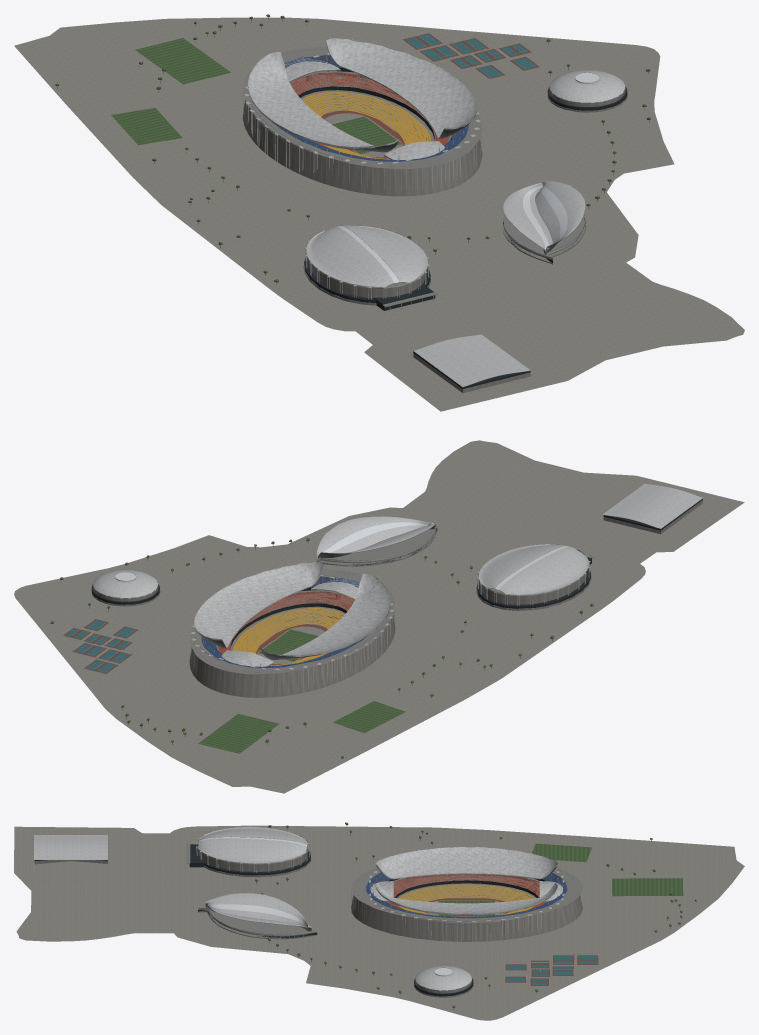
3 renders of one model, top to bottom at view 1: azimuth 30°, elevation 25°; view 2: azimuth 150°, elevation 25°; view 3: azimuth 270°, elevation 25°, orthographic. The views are drawn at different scales.
Visible parts, largest first — view 1: GX_Plaza_0, GEO-GX-Bowl, GEO-GX-Roof, GEO-GX-Gym-Roof, GEO-GX-Pool-Roof, GEO-GX-Train-Roof, GEO-GX-Gym-Body, GEO-GX-Courts, GEO-GX-Frame, GX_Lawn_0, GEO-GX-Tennis-Roof, GX_Lawn_1 (+4 smaller); view 2: GX_Plaza_0, GEO-GX-Bowl, GEO-GX-Roof, GEO-GX-Gym-Roof, GEO-GX-Pool-Roof, GEO-GX-Train-Roof, GEO-GX-Courts, GEO-GX-Gym-Body, GEO-GX-Frame, GEO-GX-Pool-Body, GX_Lawn_0, GEO-GX-Tennis-Roof (+4 smaller); view 3: GX_Plaza_0, GEO-GX-Bowl, GEO-GX-Roof, GEO-GX-Gym-Roof, GEO-GX-Pool-Roof, GEO-GX-Train-Roof, GEO-GX-Gym-Body, GEO-GX-Frame, GEO-GX-Pool-Body, GEO-GX-Courts, GX_Lawn_0, GEO-GX-Tennis-Roof (+3 smaller).
Boxes of the visible parts, x1,y1,x2,y2 form: GX_Plaza_0: [14, 17, 744, 411]; GEO-GX-Bowl: [242, 47, 482, 196]; GEO-GX-Roof: [248, 38, 476, 160]; GEO-GX-Gym-Roof: [306, 225, 428, 288]; GEO-GX-Pool-Roof: [503, 181, 585, 259]; GEO-GX-Train-Roof: [414, 334, 530, 387]; GEO-GX-Gym-Body: [303, 258, 438, 310]; GEO-GX-Courts: [402, 32, 539, 78]; GEO-GX-Frame: [243, 53, 481, 190]; GX_Lawn_0: [135, 38, 230, 84]; GEO-GX-Tennis-Roof: [549, 70, 625, 103]; GX_Lawn_1: [111, 108, 182, 145]; GX_Plaza_0: [14, 440, 744, 793]; GEO-GX-Bowl: [189, 569, 395, 697]; GEO-GX-Roof: [194, 562, 390, 666]; GEO-GX-Gym-Roof: [478, 544, 589, 596]; GEO-GX-Pool-Roof: [315, 516, 437, 562]; GEO-GX-Train-Roof: [602, 483, 702, 528]; GEO-GX-Courts: [63, 617, 138, 673]; GEO-GX-Gym-Body: [476, 554, 594, 610]; GEO-GX-Frame: [191, 574, 394, 693]; GEO-GX-Pool-Body: [316, 525, 437, 566]; GX_Lawn_0: [198, 714, 279, 753]; GEO-GX-Tennis-Roof: [93, 570, 157, 598]; GX_Plaza_0: [14, 825, 744, 1020]; GEO-GX-Bowl: [351, 867, 582, 941]; GEO-GX-Roof: [370, 847, 563, 915]; GEO-GX-Gym-Roof: [196, 826, 309, 864]; GEO-GX-Pool-Roof: [198, 893, 317, 935]; GEO-GX-Train-Roof: [34, 835, 107, 859]; GEO-GX-Gym-Body: [186, 843, 311, 877]; GEO-GX-Frame: [351, 871, 580, 941]; GEO-GX-Pool-Body: [198, 907, 317, 939]; GEO-GX-Courts: [505, 953, 598, 985]; GX_Lawn_0: [612, 878, 683, 896]; GEO-GX-Tennis-Roof: [415, 966, 471, 990].
Bounding box in the file's own units: 859 × 70.3 × 1361.
Materials: 20 (15 with a texture image).
